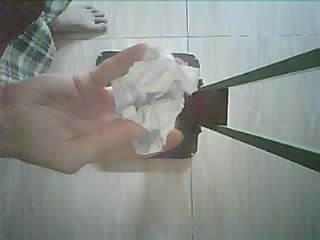paper: (112, 48, 199, 154)
